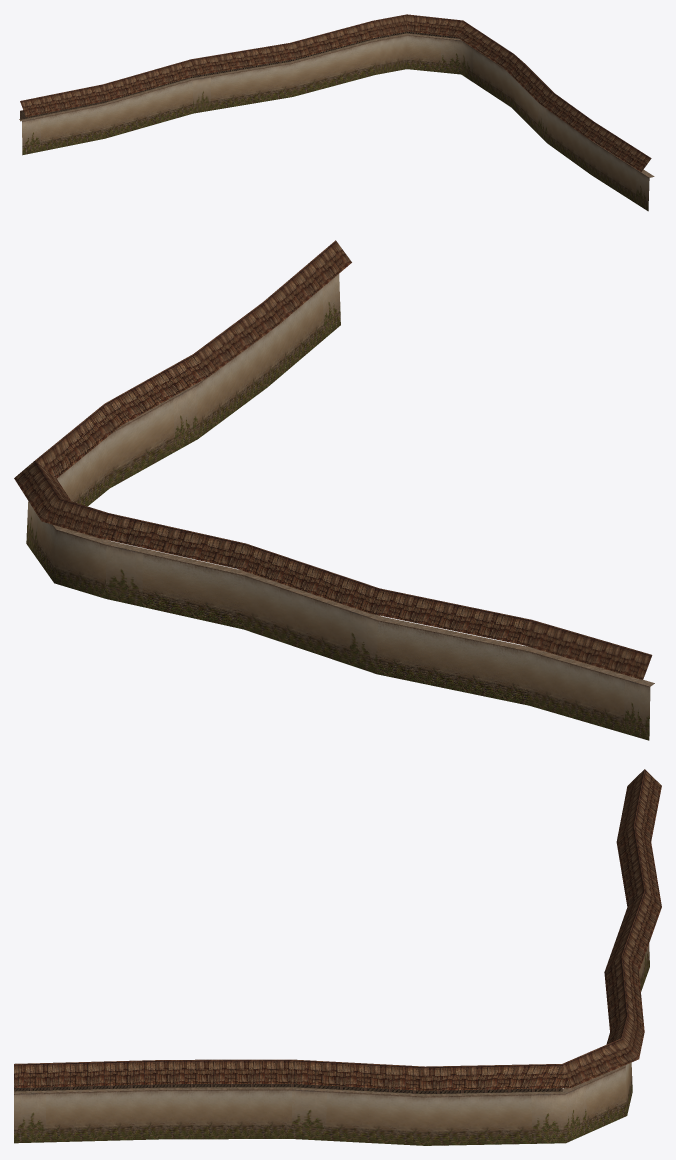
The model's file is ti_wall_d.glb.
The picture shows the model from 3 angles, top to bottom: view 1: azimuth 30°, elevation 25°; view 2: azimuth 150°, elevation 25°; view 3: azimuth 270°, elevation 25°; orthographic projection. The views are drawn at different scales.
Visible parts, largest first — view 1: TI_Wall_D; view 2: TI_Wall_D; view 3: TI_Wall_D.
Boxes of the visible parts, <box> form: TI_Wall_D: <box>19,14,654,211</box>; TI_Wall_D: <box>14,240,654,740</box>; TI_Wall_D: <box>14,769,661,1145</box>.
Bounding box in the file's own units: 22.99 × 2.69 × 20.65.
6 materials, 6 textured.
